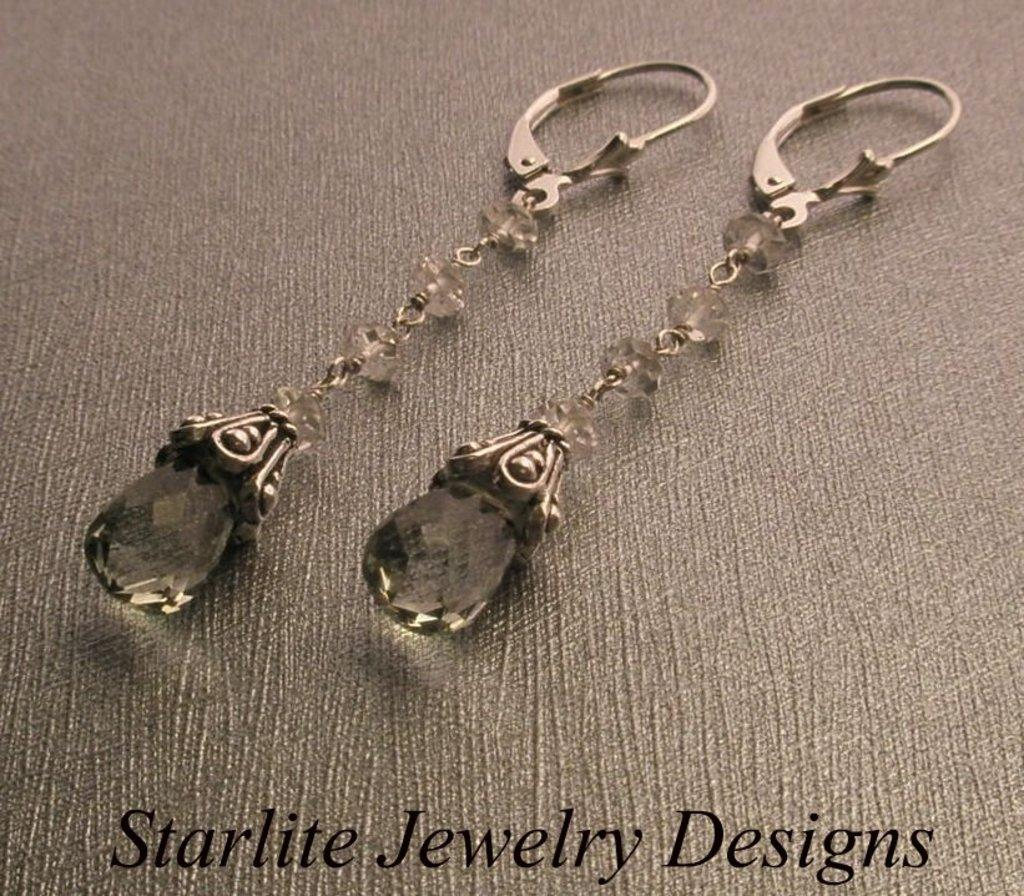earring: (82, 67, 716, 612), (351, 76, 964, 636)
